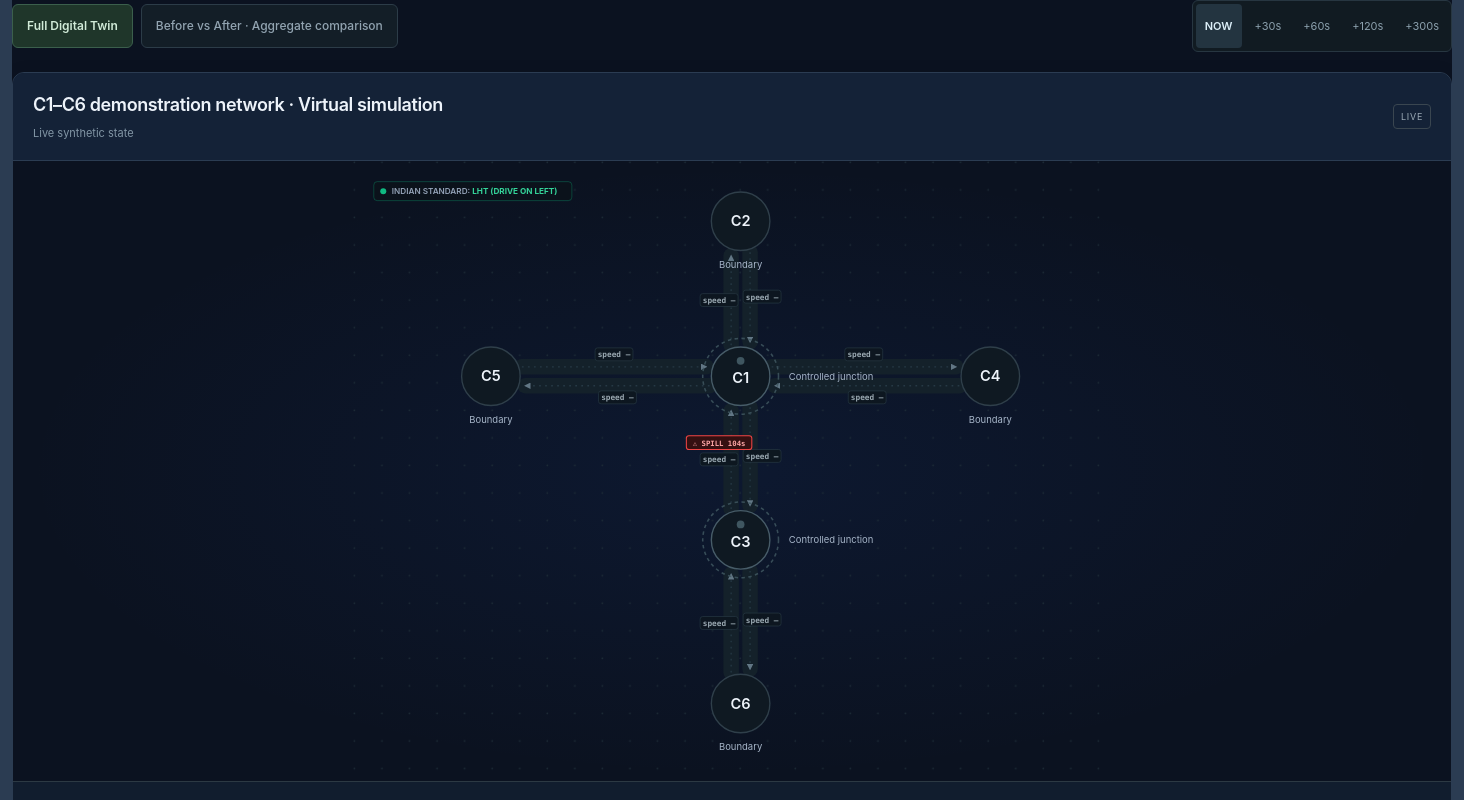
Epic 4 (S11 & S12): Forecasts, Platoons & Spillback Intelligence › Story S11 & S12: NetworkView passes horizon forecasts and switches split mode
This screenshot has width=1464, height=800.
Click the button "+60s": (1317, 26) [1294,4,1339,48]
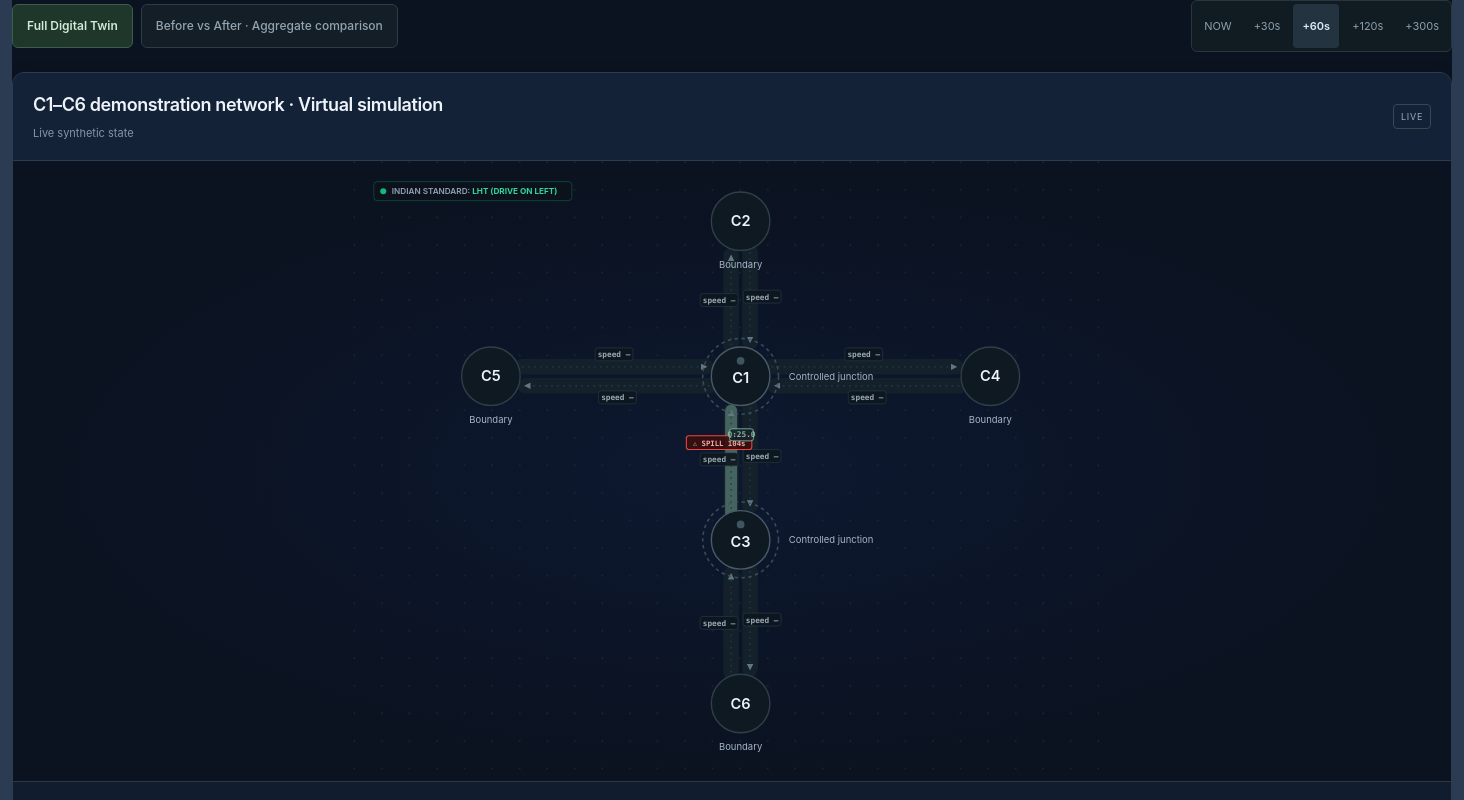
Check: the button "+60s" is pressed, box [1293,4,1339,48]
Switch to Before vs After split mode
Click the button "Before vs After · Aggregate comparison": (269, 26) [141,4,398,48]
(page scrolled)
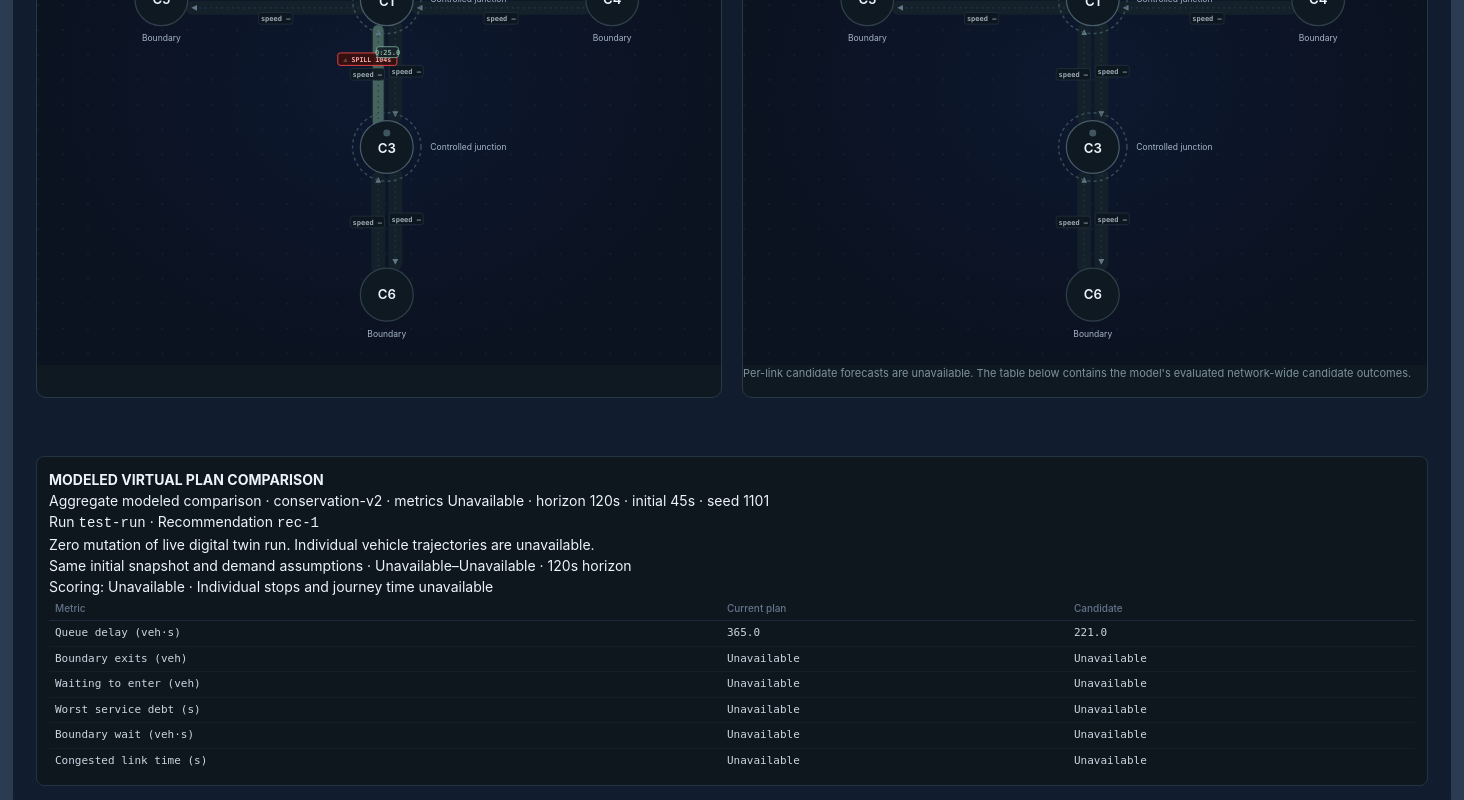
Check: the text "365.0" is shown, box [721,621,1068,646]
Check: the text "221.0" is shown, box [1068,621,1415,646]
